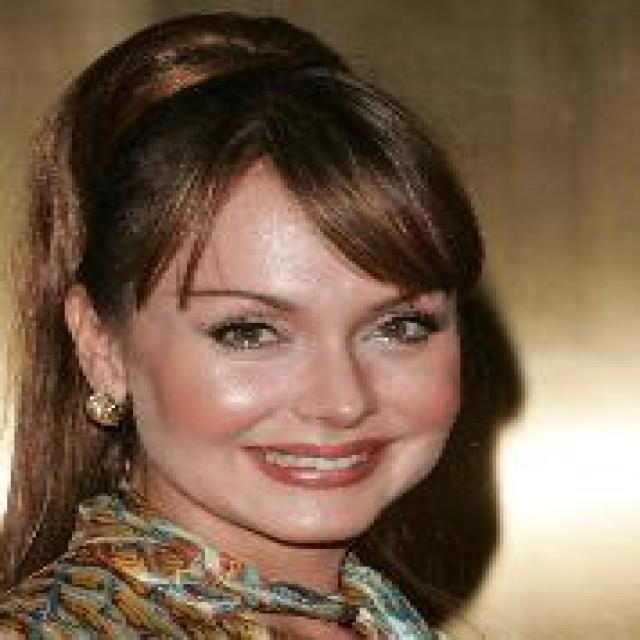bareface: (86, 86, 476, 538)
